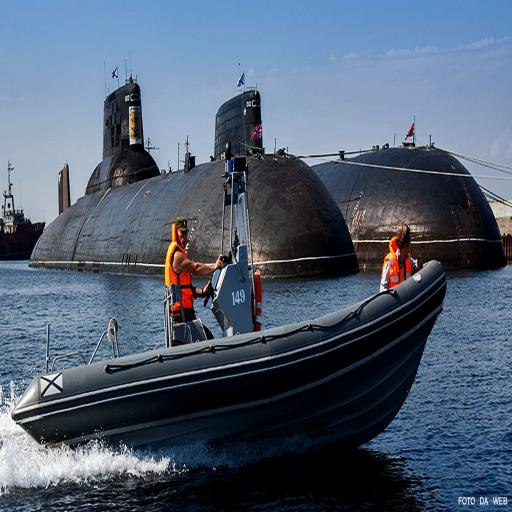submarine: (22, 80, 364, 279), (203, 69, 510, 276)
